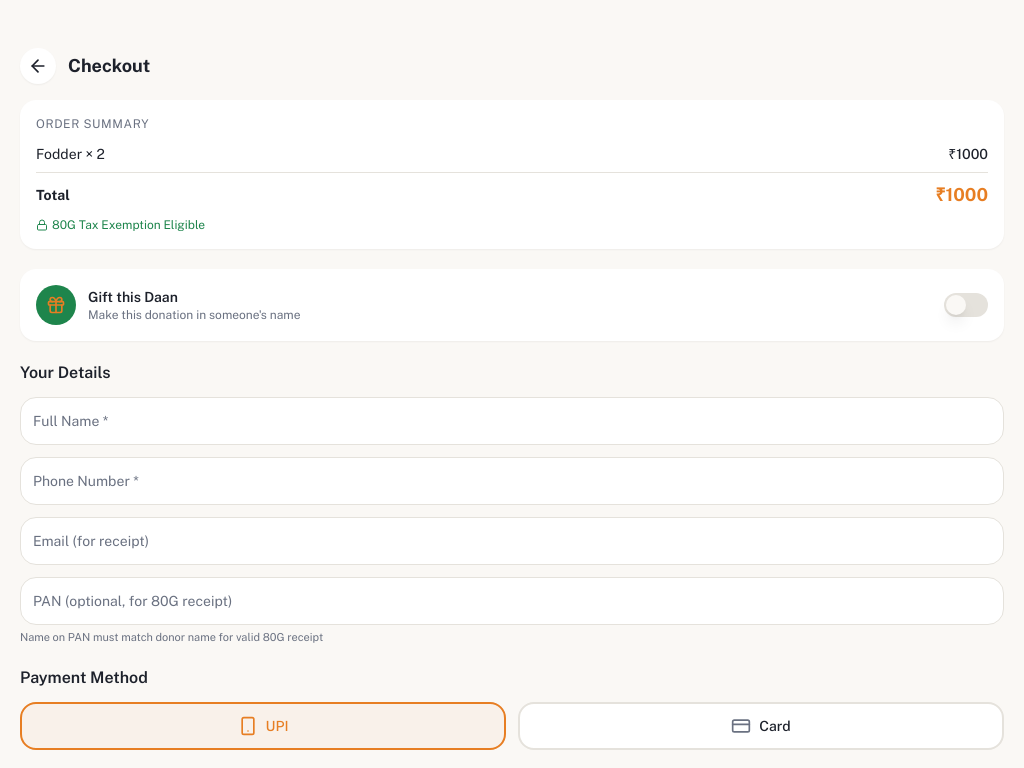
Test case: Gift toggle › changes button label to Gift Daan when gift is on
Click the switch at (966, 305), box [944,293,988,317]
(page scrolled)
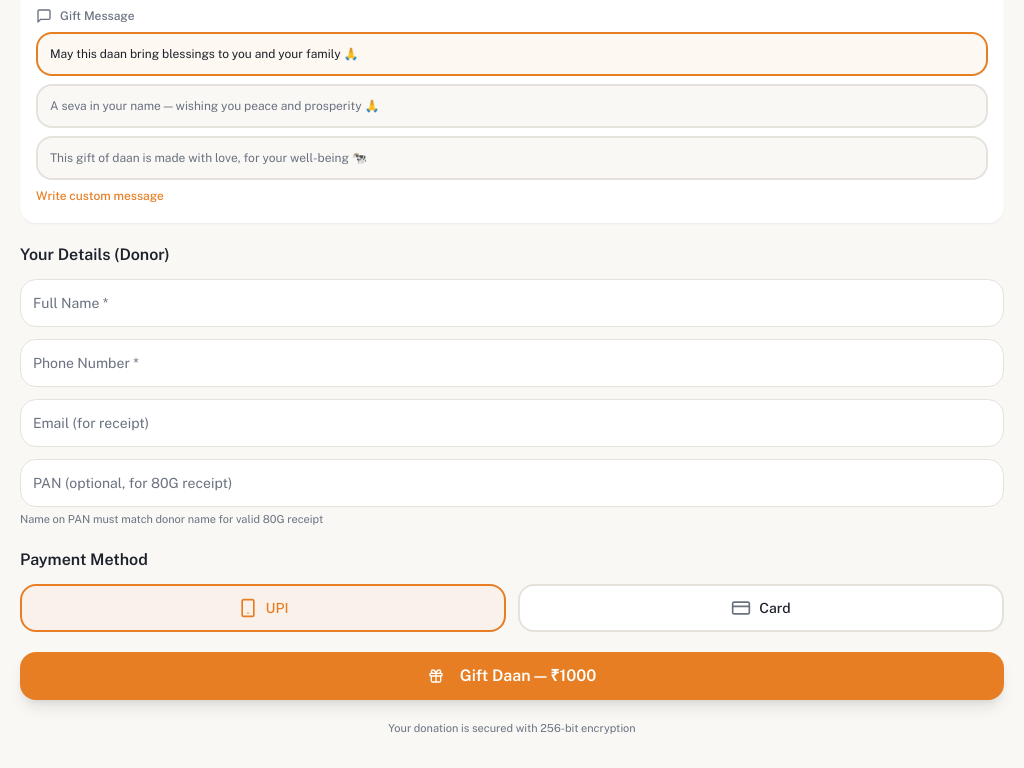
expect the button "Gift Daan — ₹1000" is shown: met, box [20,652,1004,700]
